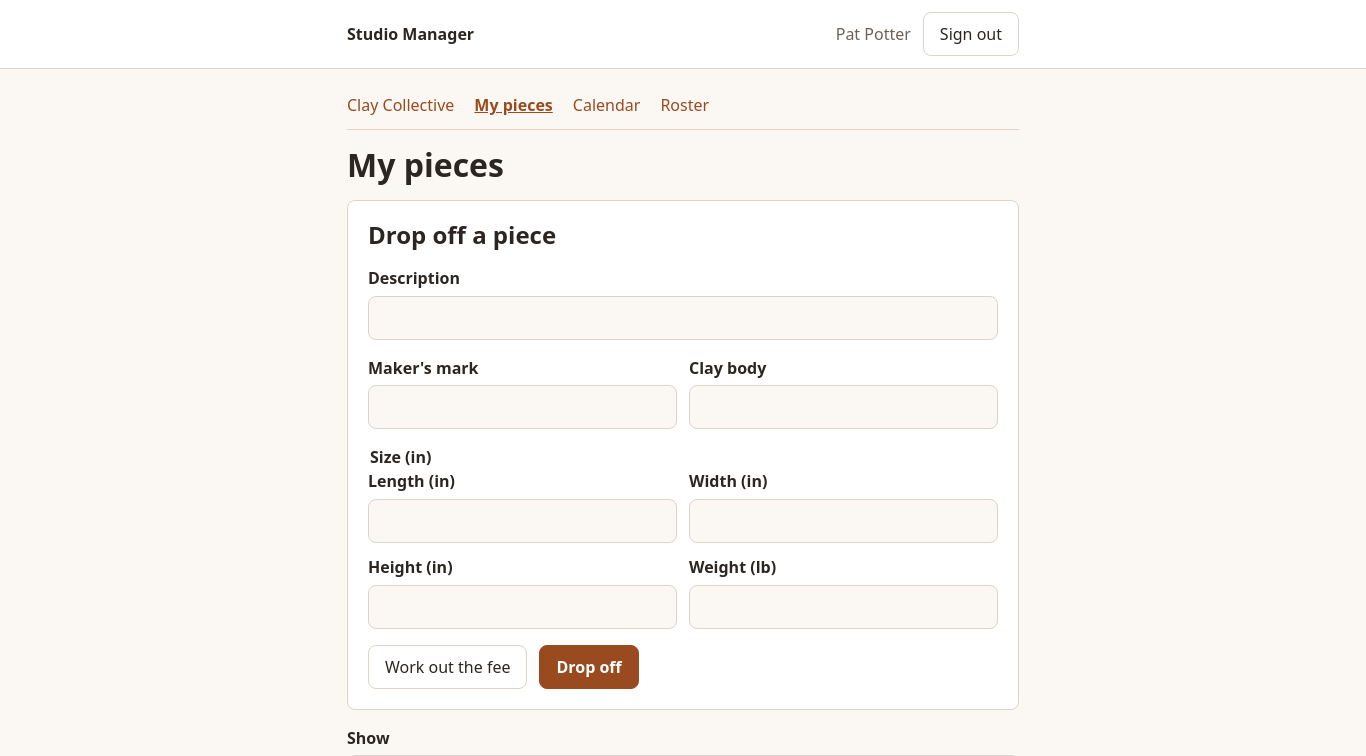
pieces › lets a member drop off a piece in the studio units and see its fee
Expected: the heading "My pieces" is shown, [347,143,504,186]
Type "Lidded jar" into the field labelled "Description" at x=683, y=318, box [368,296,998,340]
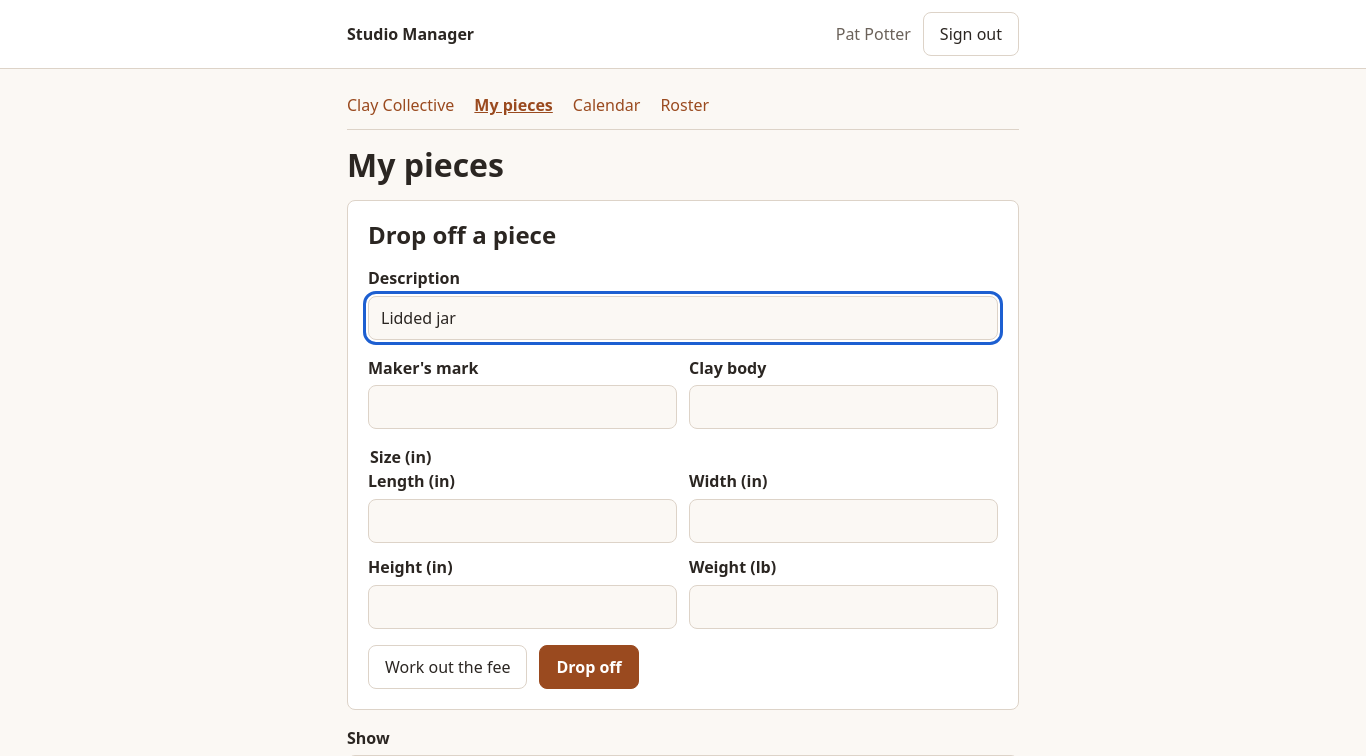
Type "12" into the field labelled "Length (in)" at x=522, y=521, box [368,499,677,543]
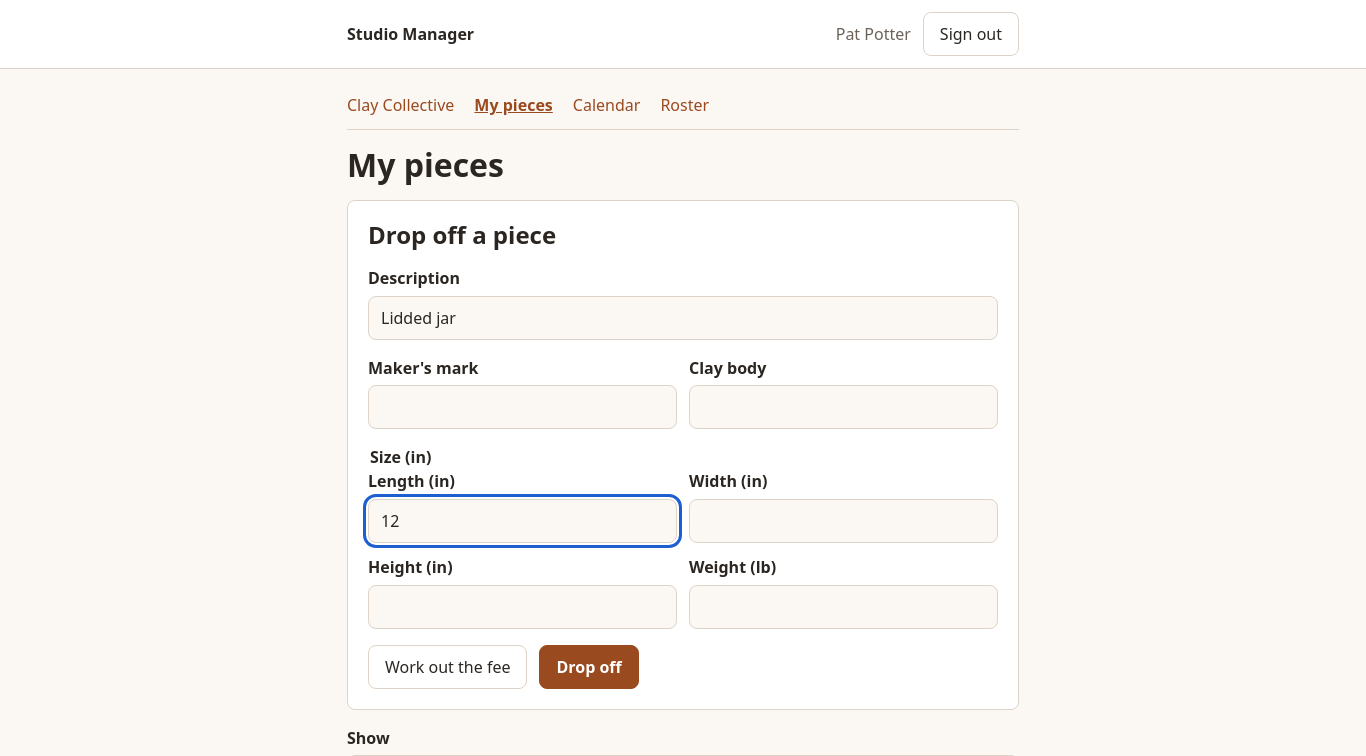
Type "10" into the field labelled "Width (in)" at x=844, y=521, box [689,499,998,543]
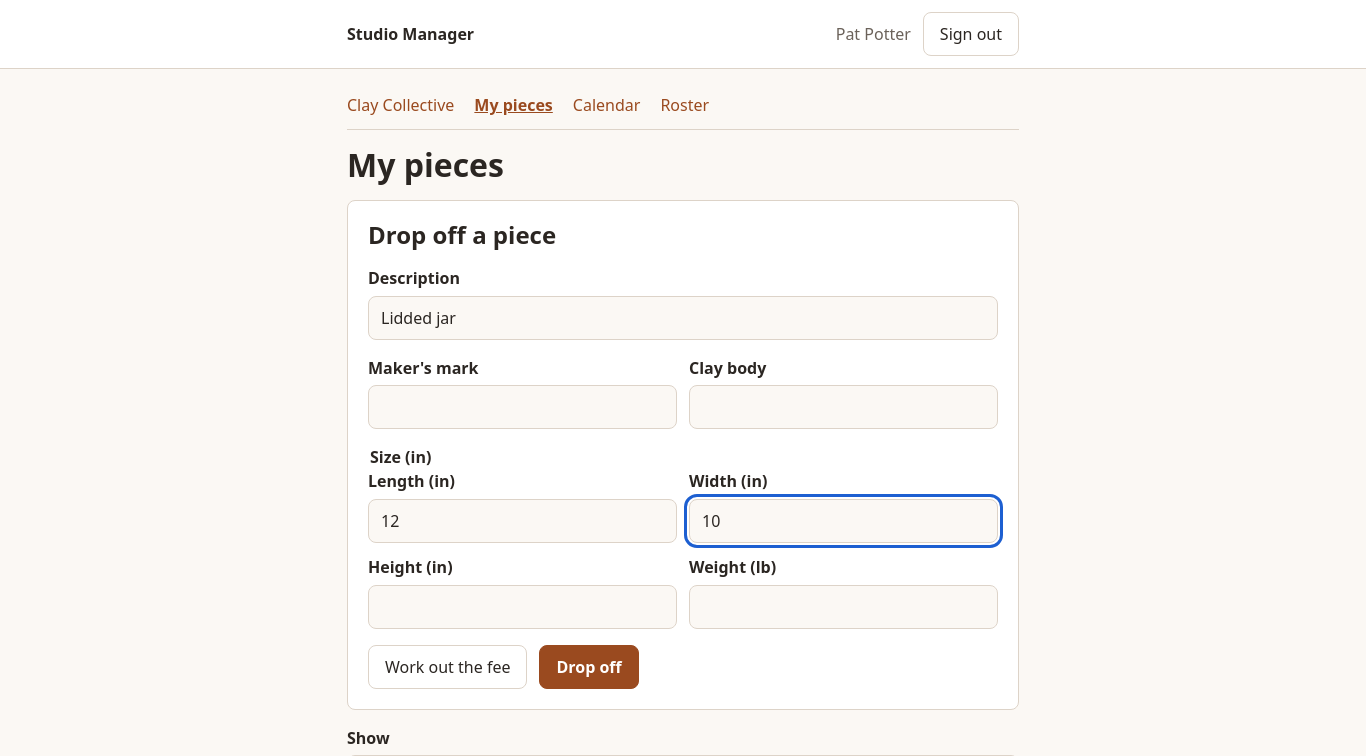
Type "8" into the field labelled "Height (in)" at x=522, y=607, box [368,585,677,629]
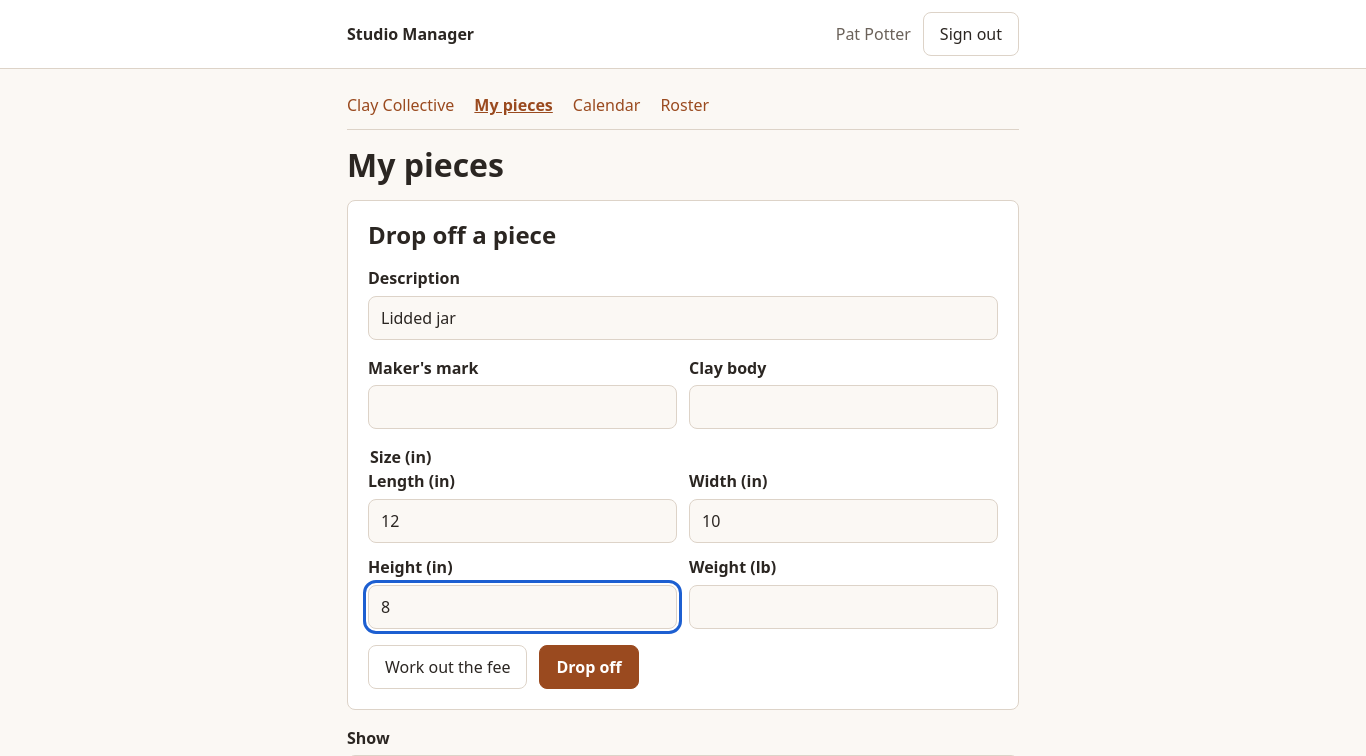
Click the button "Drop off" at x=589, y=667, box [540,645,639,689]
(page scrolled)
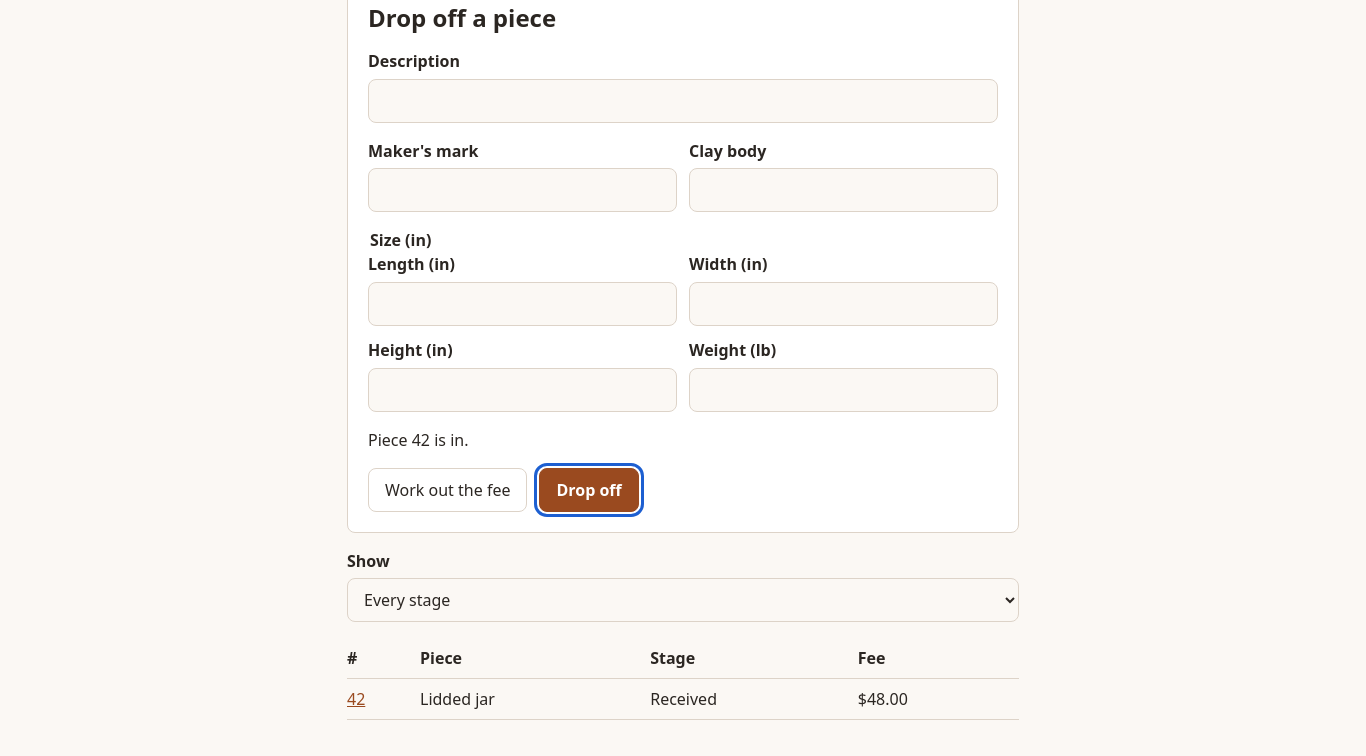
Expected: the text "Piece 42 is in." is shown, [368,429,468,451]
Expected: the row "42" is shown, [347,679,1019,720]
Expected: the text "$48.00" is shown, [858,679,1019,720]
